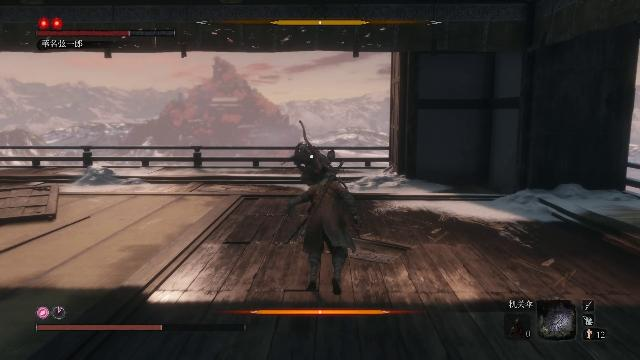sk: (285, 164, 364, 296)
